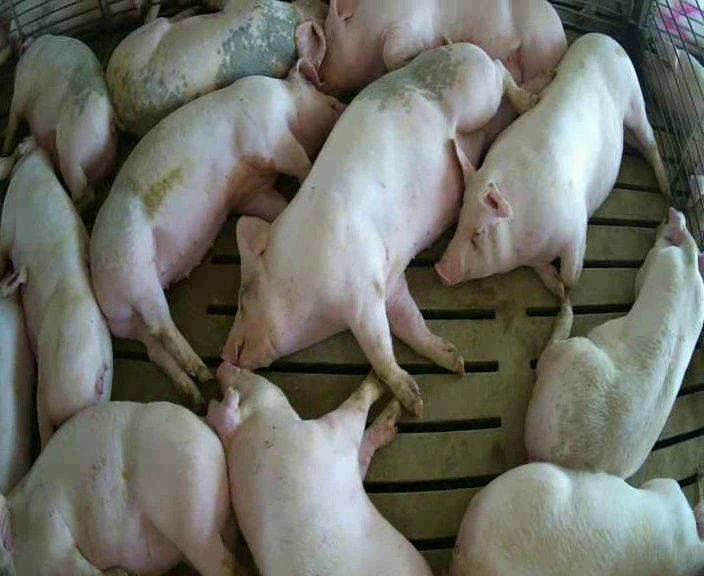pig: (224, 40, 557, 414), (90, 58, 343, 403), (436, 33, 668, 299), (525, 209, 703, 478), (208, 362, 430, 573), (0, 136, 112, 443), (106, 1, 327, 135), (452, 463, 703, 575), (319, 2, 566, 96), (3, 35, 115, 209), (0, 265, 35, 492)
